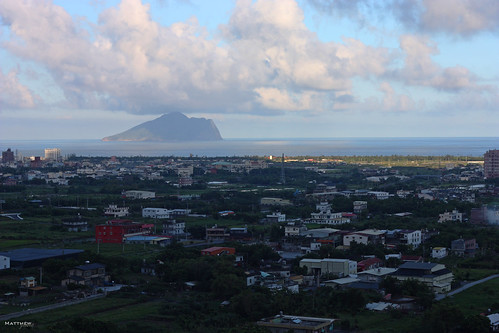turtleIsland: (103, 110, 224, 143)
